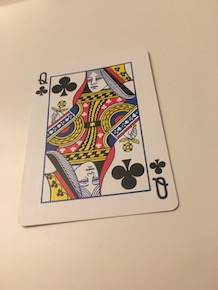QueenOfClubs: (16, 45, 183, 232)
